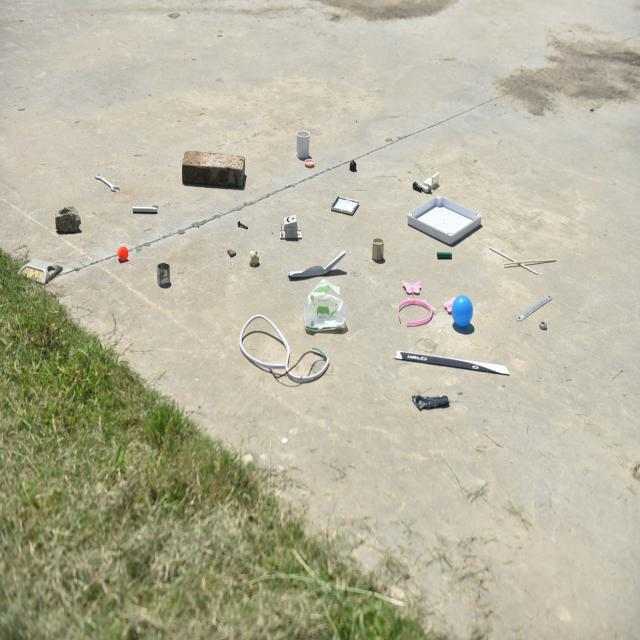Debris: (227, 313, 332, 390), (392, 340, 509, 380), (178, 145, 256, 197), (402, 197, 492, 241), (290, 244, 354, 287), (303, 276, 346, 340), (396, 276, 445, 332), (518, 286, 556, 343), (448, 292, 482, 334), (20, 252, 66, 282), (49, 203, 87, 237), (272, 209, 306, 246), (86, 162, 123, 194), (292, 125, 316, 174), (148, 252, 178, 290), (331, 183, 363, 218), (409, 389, 463, 409), (409, 166, 441, 194), (499, 256, 561, 269), (368, 232, 390, 265), (129, 204, 168, 222), (114, 242, 138, 265), (432, 248, 454, 268), (233, 212, 249, 233), (222, 240, 238, 260), (304, 156, 318, 171), (246, 252, 258, 266), (349, 161, 360, 171)
